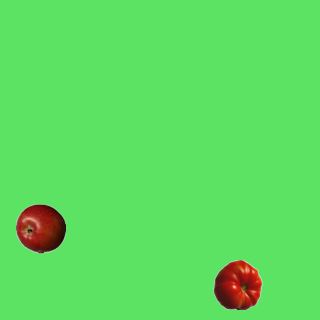Apple Braeburn: (15, 203, 65, 253)
Tomato 3: (212, 259, 262, 309)
